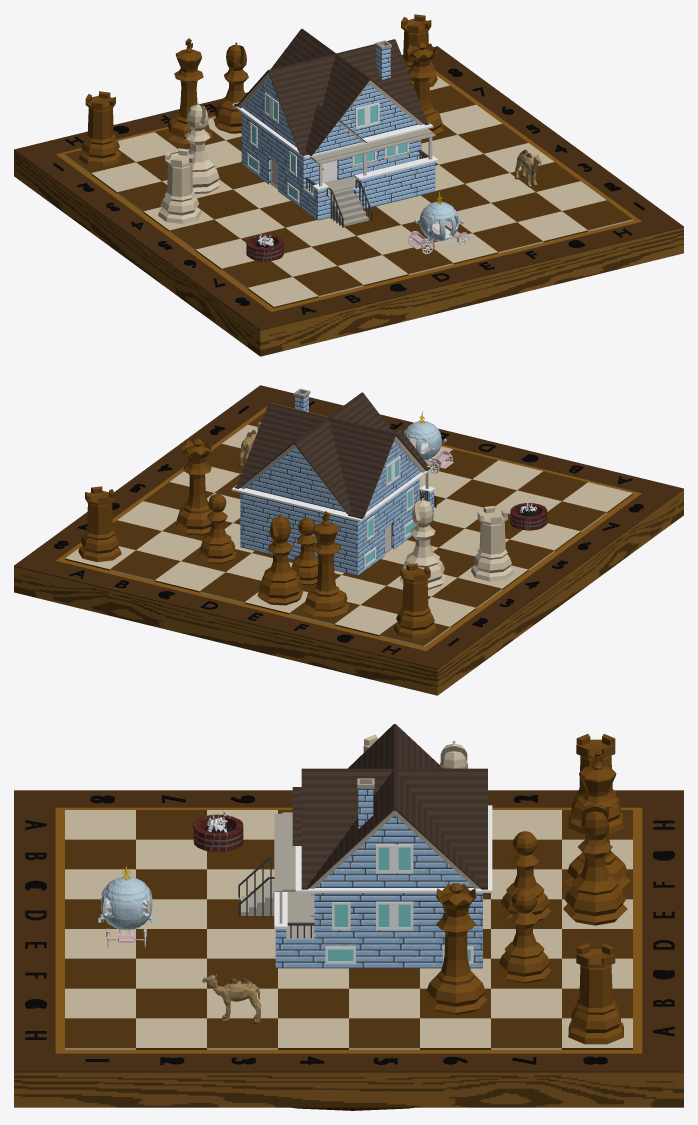
3 views of the same model, one above another, from view 1: azimuth 30°, elevation 25°; view 2: azimuth 150°, elevation 25°; view 3: azimuth 270°, elevation 25° (orthographic). The views are drawn at different scales.
Parts seen in each view (by area): view 1: Cube.002, Cube.547, VEHICLES_FANTASY_CARRIAGE, OBJRANDOM_CAMPFIRE, ANIMAL_CAMELLO; view 2: Cube.002, Cube.547, VEHICLES_FANTASY_CARRIAGE, OBJRANDOM_CAMPFIRE; view 3: Cube.002, Cube.547, VEHICLES_FANTASY_CARRIAGE, OBJRANDOM_CAMPFIRE, ANIMAL_CAMELLO.
Boxes of the visible parts, bbox=[...] form: Cube.002: bbox=[14, 14, 683, 356]; Cube.547: bbox=[232, 28, 438, 227]; VEHICLES_FANTASY_CARRIAGE: bbox=[407, 191, 469, 254]; OBJRANDOM_CAMPFIRE: bbox=[246, 232, 283, 261]; ANIMAL_CAMELLO: bbox=[514, 149, 541, 187]; Cube.002: bbox=[14, 385, 683, 695]; Cube.547: bbox=[231, 388, 436, 575]; VEHICLES_FANTASY_CARRIAGE: bbox=[404, 411, 453, 473]; OBJRANDOM_CAMPFIRE: bbox=[510, 501, 547, 530]; Cube.002: bbox=[14, 734, 683, 1107]; Cube.547: bbox=[238, 724, 492, 968]; VEHICLES_FANTASY_CARRIAGE: bbox=[98, 864, 154, 947]; OBJRANDOM_CAMPFIRE: bbox=[193, 812, 243, 851]; ANIMAL_CAMELLO: bbox=[202, 973, 260, 1023].
Size of the model in its own units: 3981 by 1551 by 4012.
Materials: 34 (3 with a texture image).
